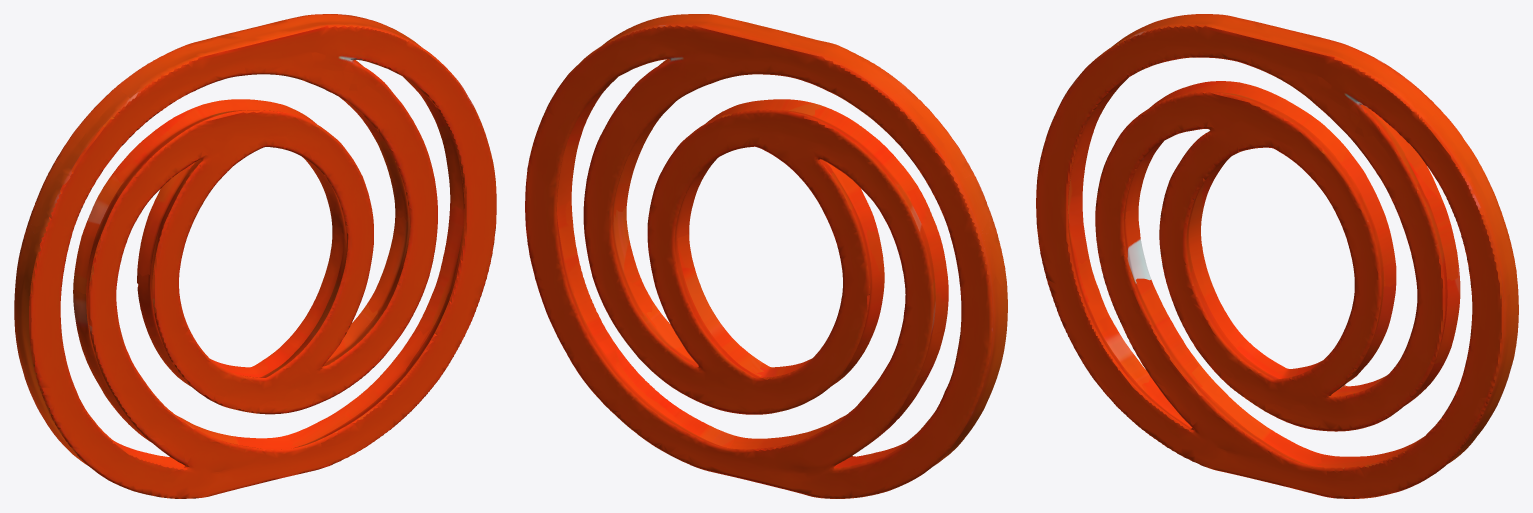
Rendered from loops.glb.
3 renders of one model, left to right at view 1: azimuth 30°, elevation 25°; view 2: azimuth 150°, elevation 25°; view 3: azimuth 330°, elevation 25°, orthographic.
Parts seen in each view (by area): view 1: tmp11yk5lsp.ply; view 2: tmp11yk5lsp.ply; view 3: tmp11yk5lsp.ply.
Boxes of the visible parts, x1=… form: tmp11yk5lsp.ply: x1=14, y1=14, x2=496, y2=498; tmp11yk5lsp.ply: x1=525, y1=14, x2=1007, y2=498; tmp11yk5lsp.ply: x1=1036, y1=14, x2=1518, y2=498.
Bounding box in the file's own units: 1.99 × 1.81 × 0.1263.
Materials: 1 (1 with a texture image).
